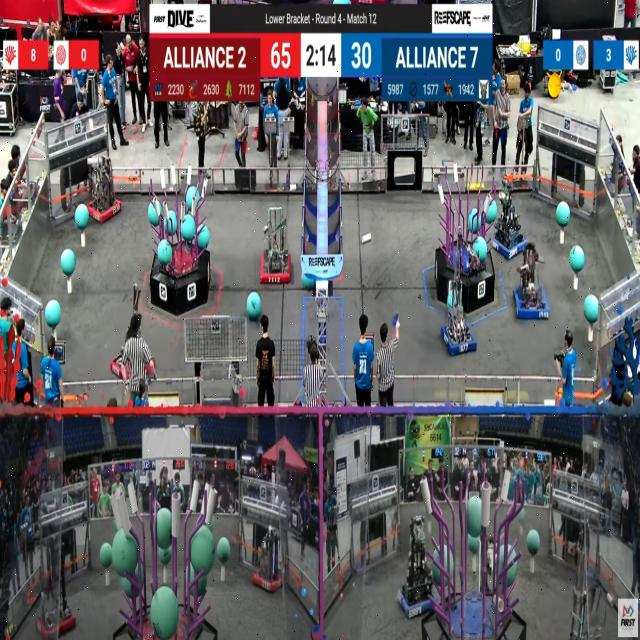Robot-YfA7: (440, 226, 487, 358), (111, 282, 155, 373), (34, 535, 72, 638), (401, 510, 433, 620), (492, 179, 531, 261), (260, 200, 292, 285), (515, 248, 548, 320), (86, 155, 118, 223), (252, 527, 284, 593)
